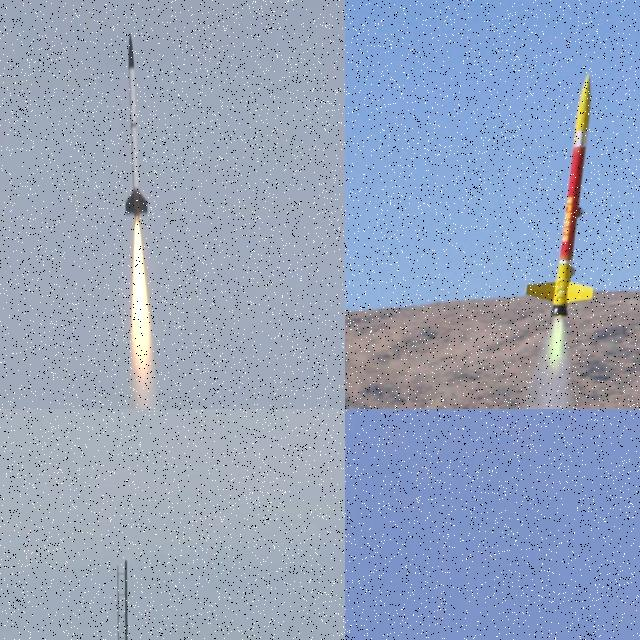Rocket: (525, 71, 595, 316), (125, 32, 148, 230)
